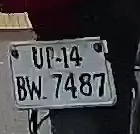1: (59, 47, 71, 70)
4: (63, 71, 81, 101), (68, 47, 86, 69)
7: (49, 72, 64, 101), (93, 71, 108, 100)
8: (78, 73, 94, 100)
B: (14, 72, 28, 103)
P: (45, 46, 56, 71)
U: (31, 46, 45, 72)
W: (26, 75, 44, 102)
